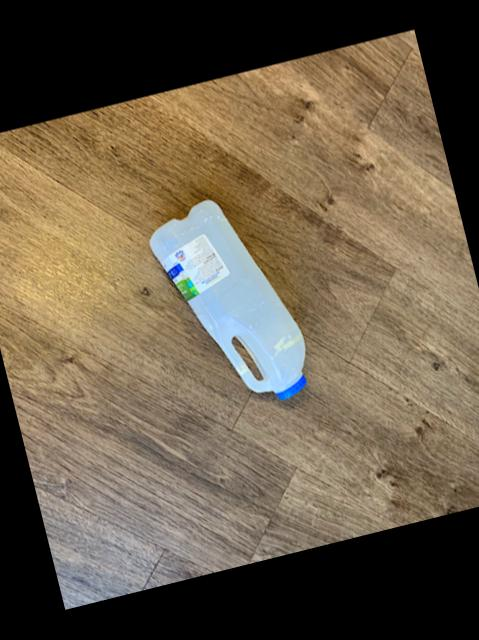plastic: (150, 199, 305, 397)
